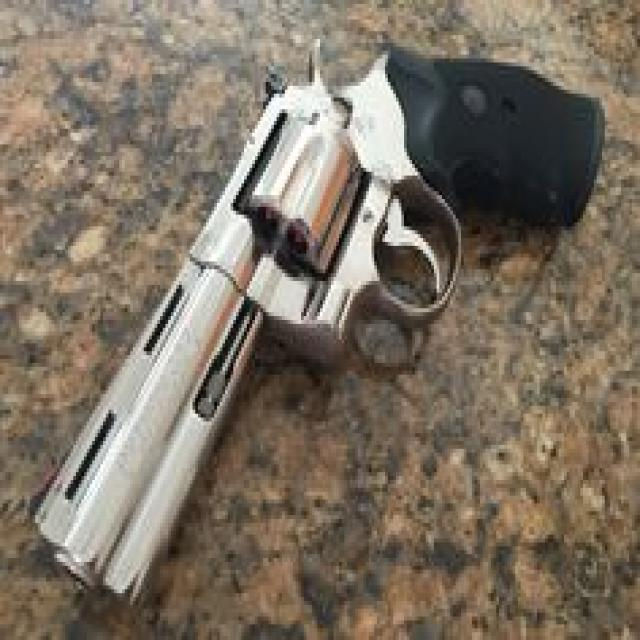revolver: (24, 36, 624, 620)
